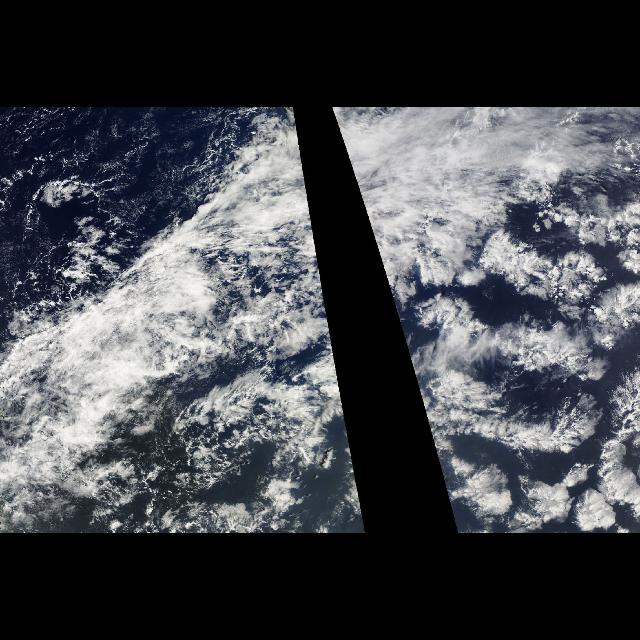Fish: (1, 153, 298, 497)
Flower: (388, 181, 640, 533), (178, 294, 366, 528)
Gravel: (0, 107, 234, 283)
